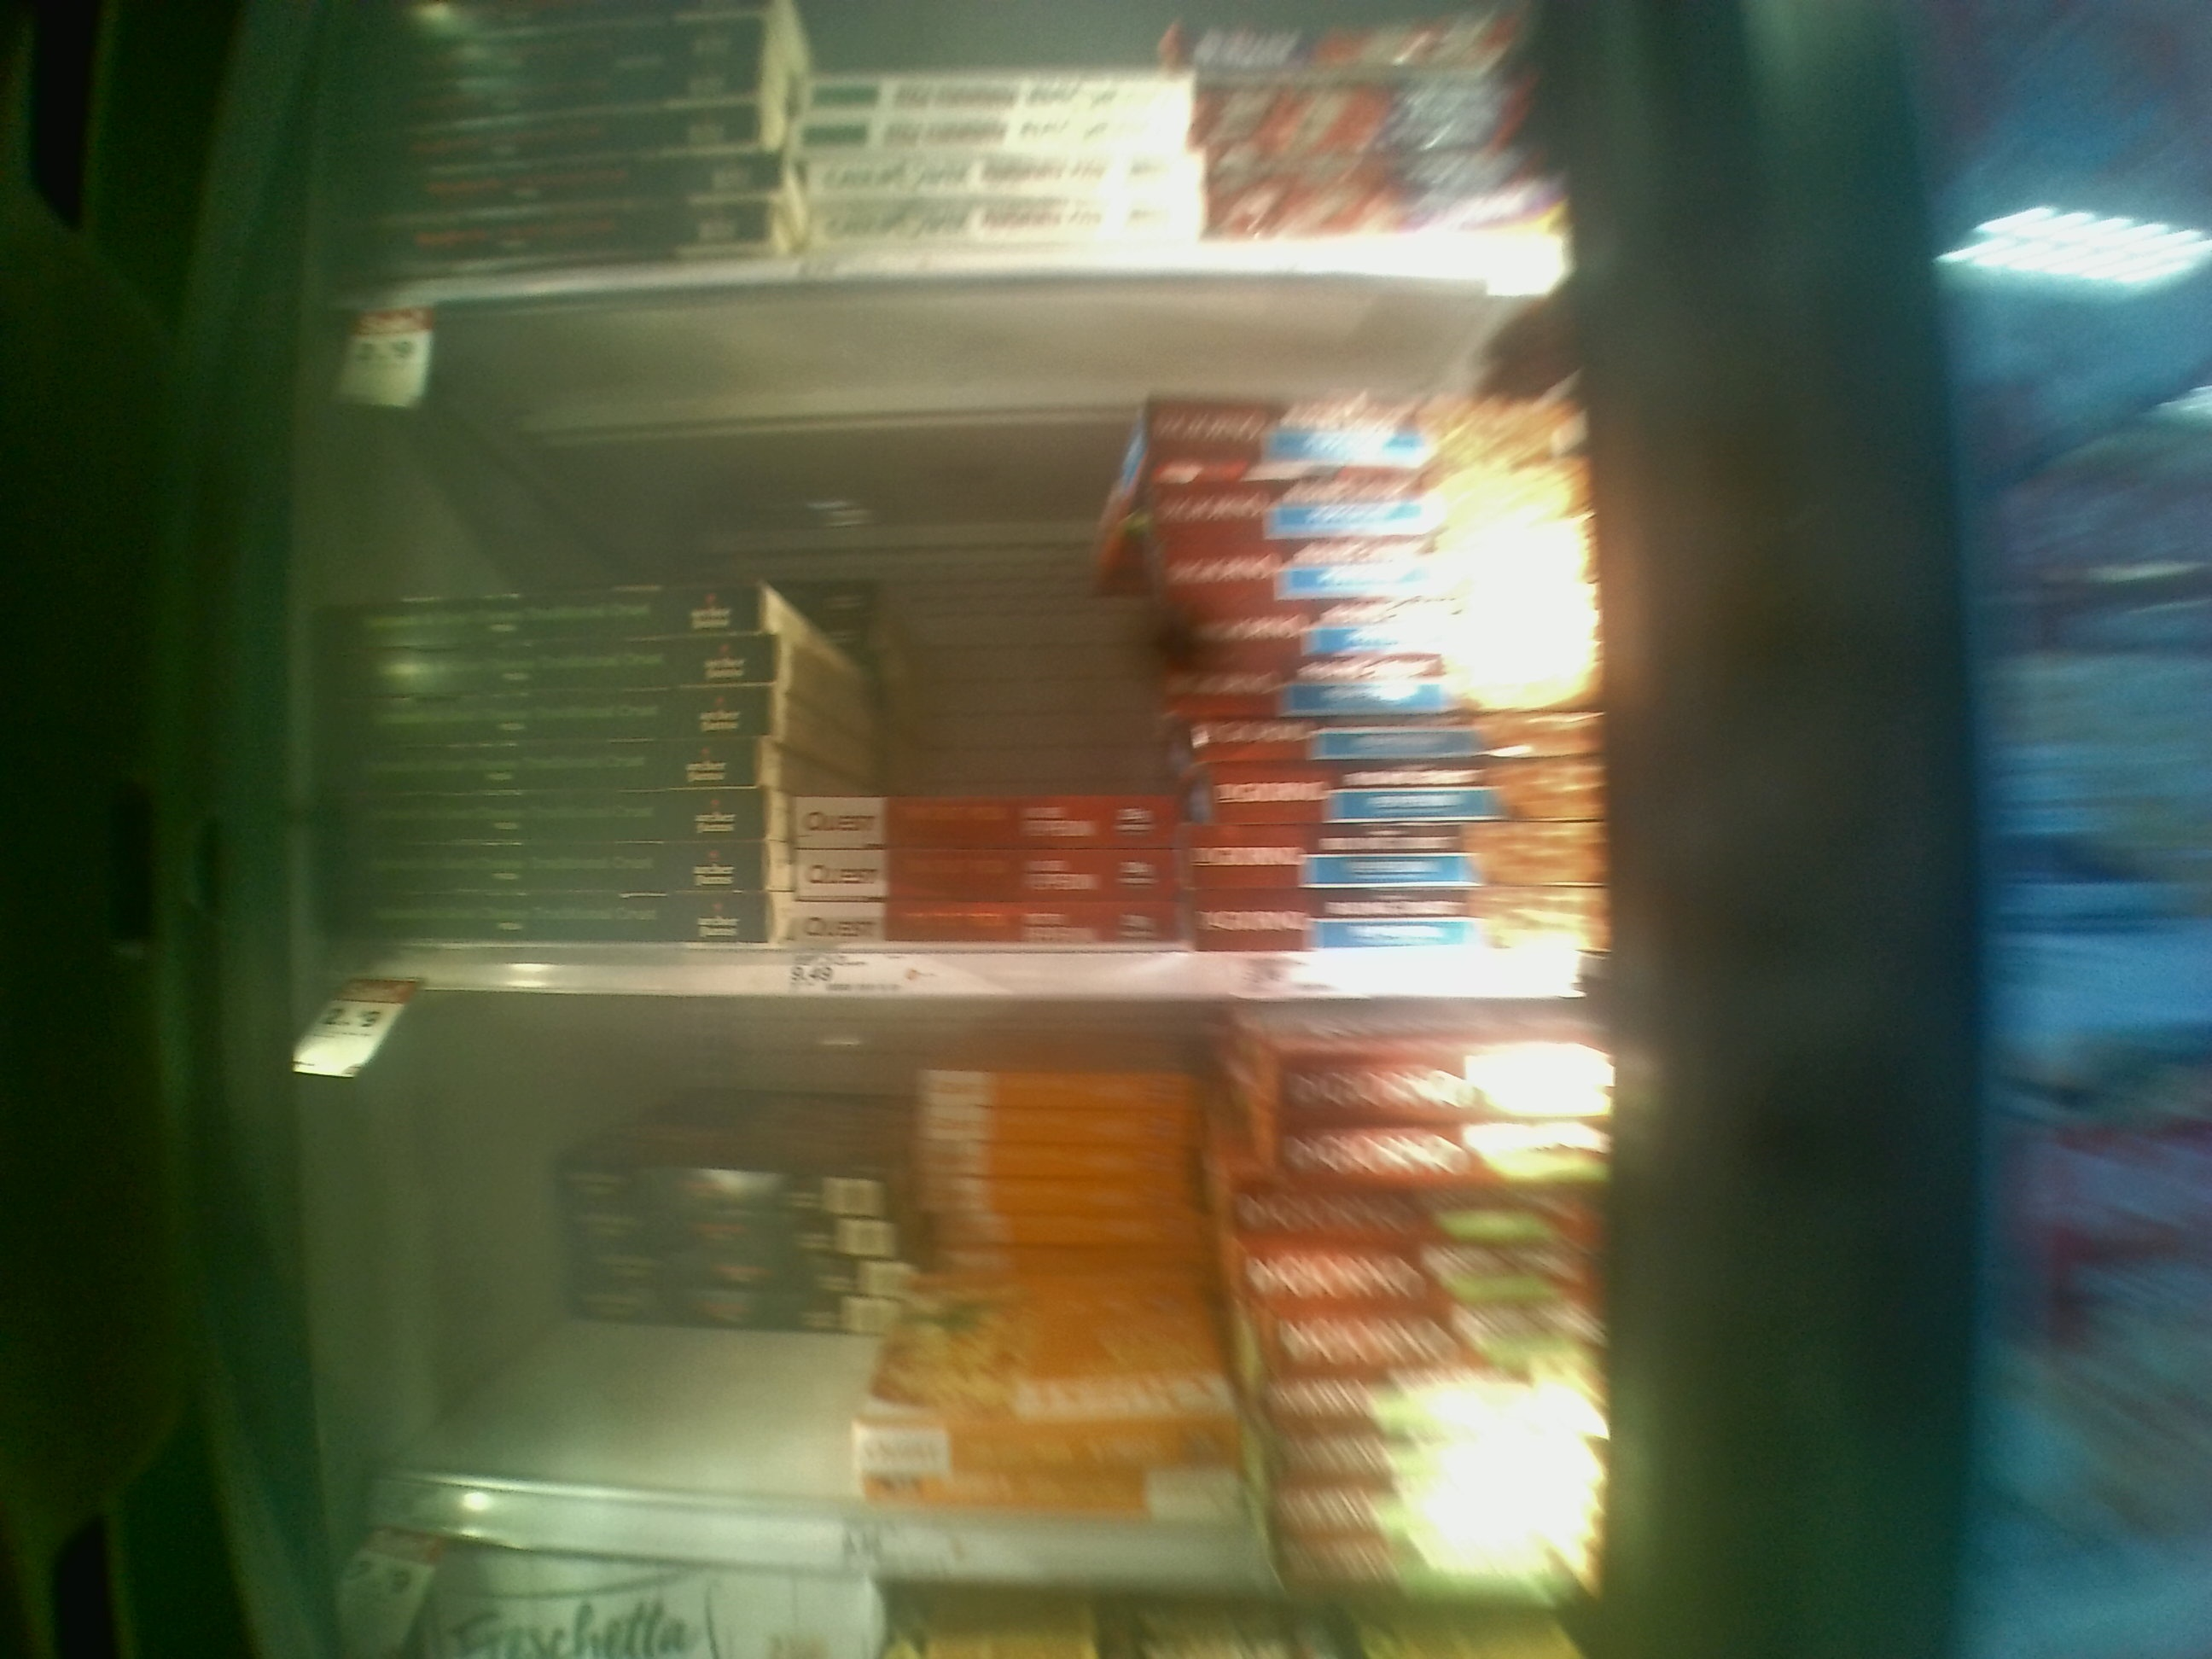shelf: (324, 314, 1601, 999), (331, 1000, 1604, 1607)
